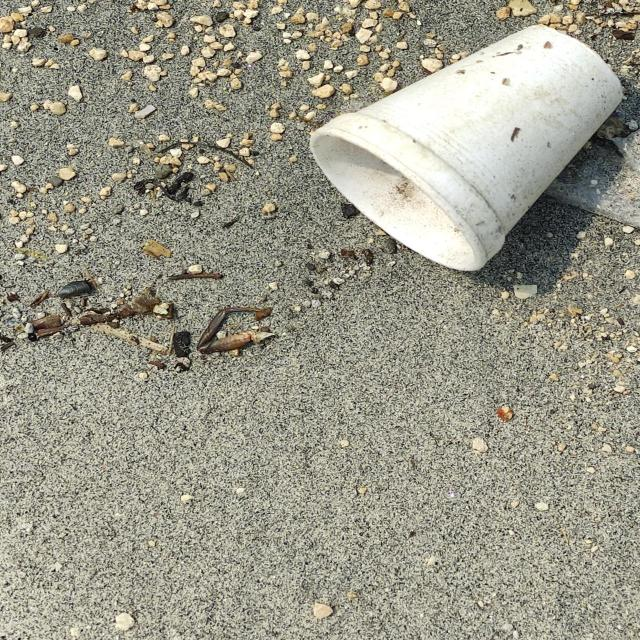styrofoam_waste: (307, 24, 626, 275)
